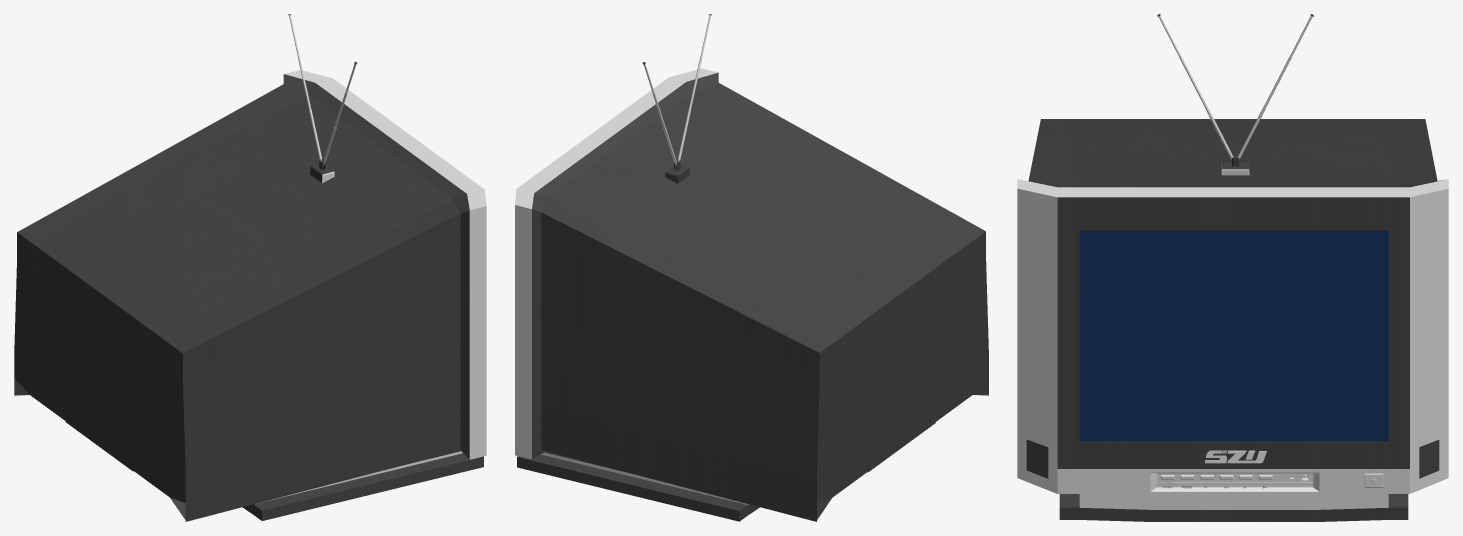
The picture shows the model from 3 angles, left to right: view 1: azimuth 30°, elevation 25°; view 2: azimuth 150°, elevation 25°; view 3: azimuth 270°, elevation 25°; orthographic projection. The views are drawn at different scales.
Parts seen in each view (by area): view 1: TV Base, Anthena; view 2: TV Base, Anthena; view 3: TV Base, Anthena, SZU text.
Boxes of the visible parts, x1,y1,x2,y2 form: TV Base: (14,70,486,521); Anthena: (288,14,357,169); TV Base: (515,68,988,521); Anthena: (642,14,711,170); TV Base: (1017,119,1448,521); Anthena: (1157,14,1313,166); SZU text: (1205,450,1266,463).
Bounding box in the file's own units: 0.3108 × 0.3776 × 0.3215.
4 materials, 1 textured.
